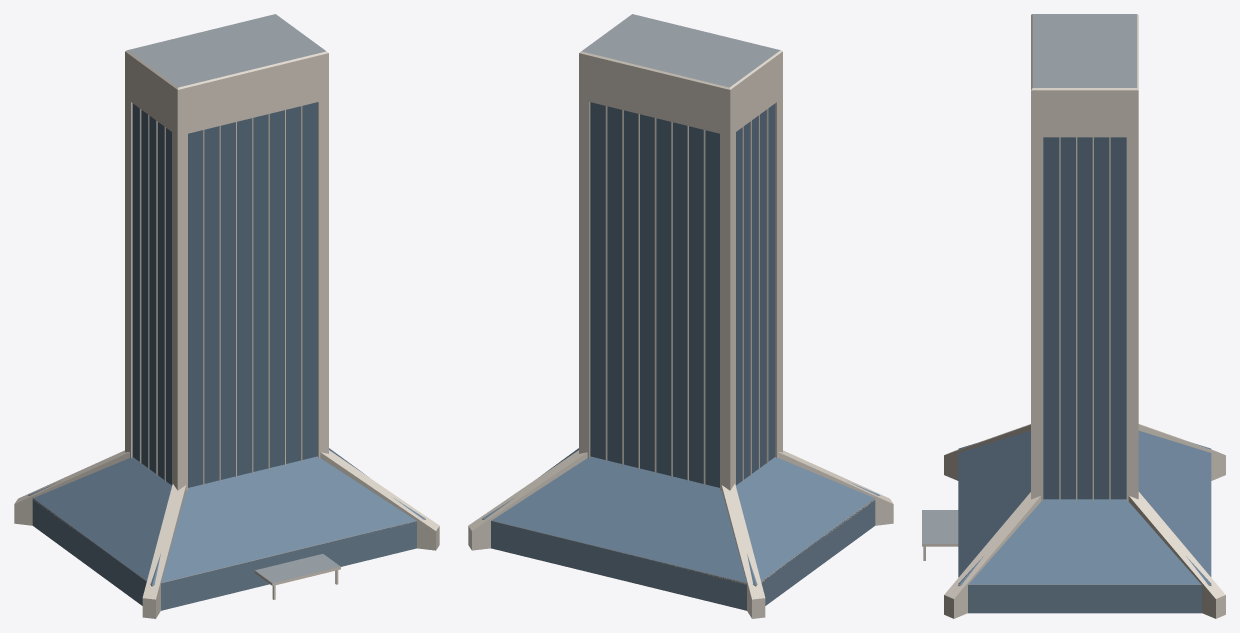
File: jax-wells-fargo-center.glb
3 views of the same model, side by side, from view 1: azimuth 30°, elevation 25°; view 2: azimuth 150°, elevation 25°; view 3: azimuth 270°, elevation 25° (orthographic). The views are drawn at different scales.
Visible parts, largest first — view 1: 1 Independent Square; view 2: 1 Independent Square; view 3: 1 Independent Square.
Part boxes in pixels (box(x1,y1,x2,y2)): 1 Independent Square: box(14, 14, 439, 618); 1 Independent Square: box(468, 14, 893, 618); 1 Independent Square: box(922, 14, 1225, 618).
Size of the model in its own units: 104 by 162 by 90.28.
